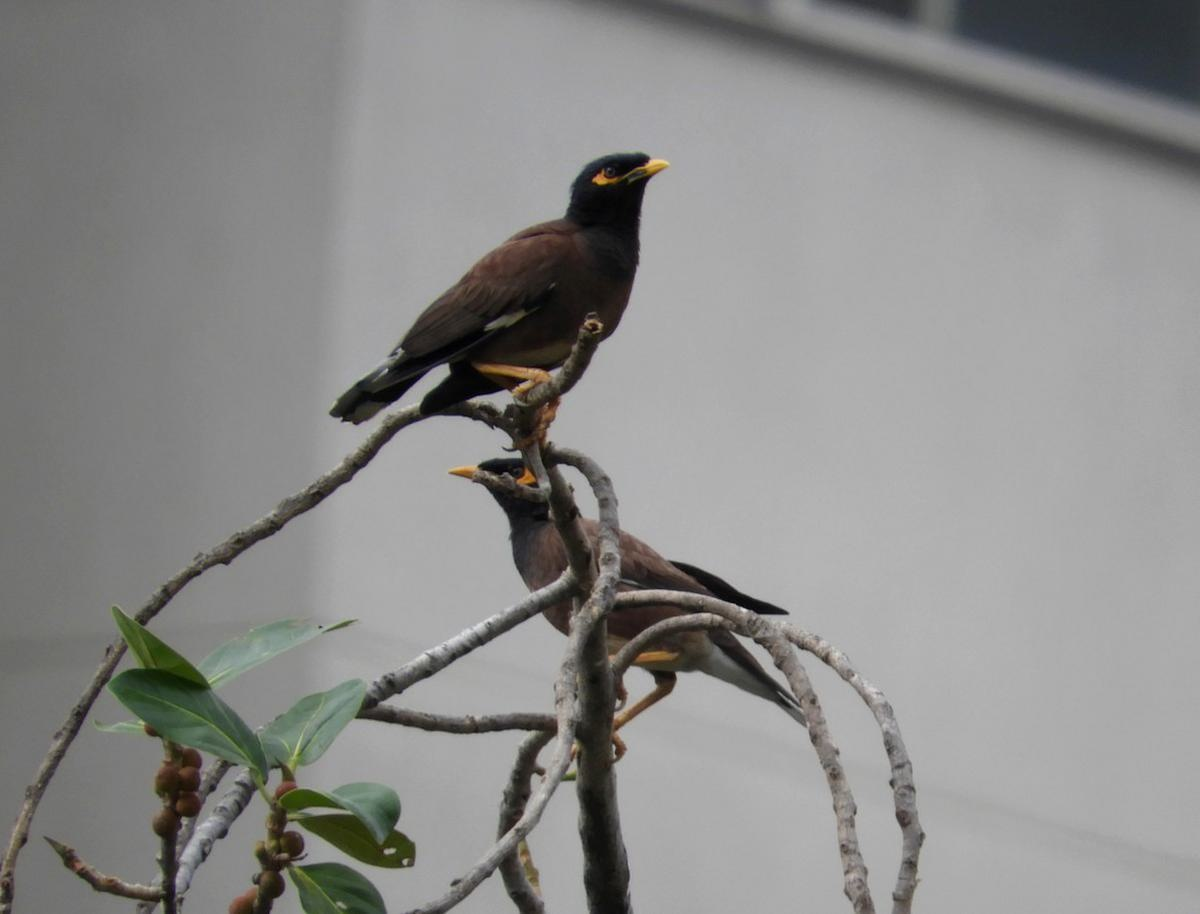myna: (329, 132, 684, 432)
